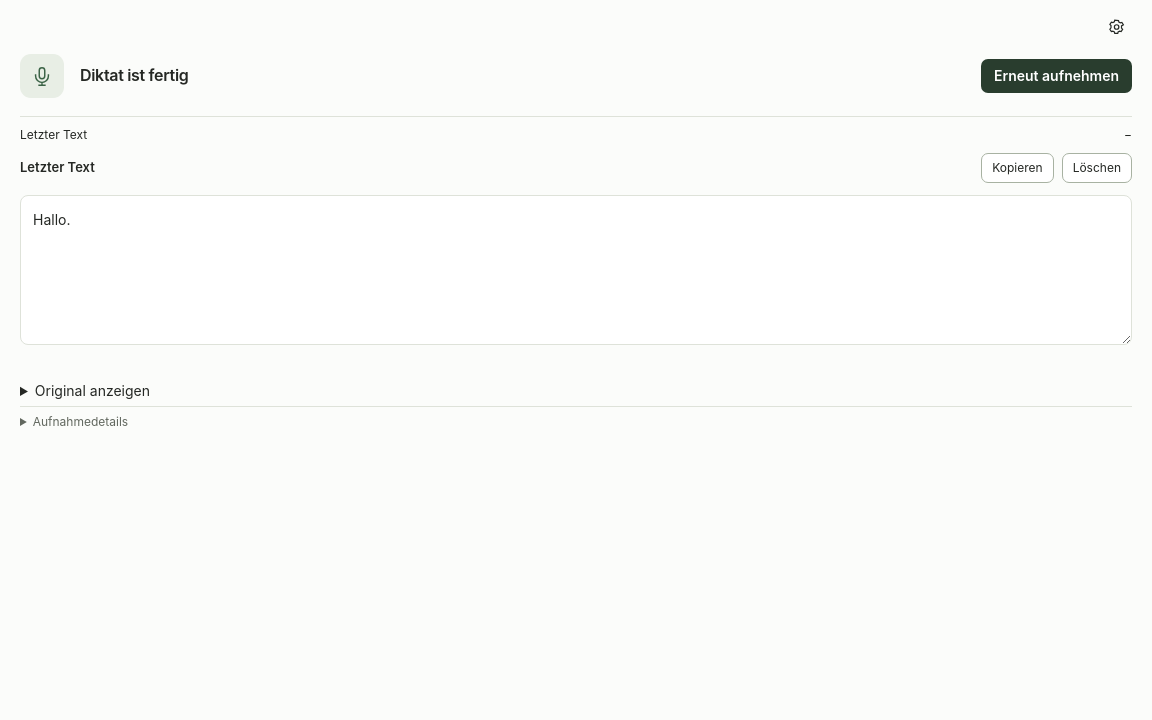
Test: offers the original separately after edits and hides stale session status
This screenshot has width=1152, height=720.
Click the heading "Original anzeigen".
click(92, 391)  # box [35,382,150,399]
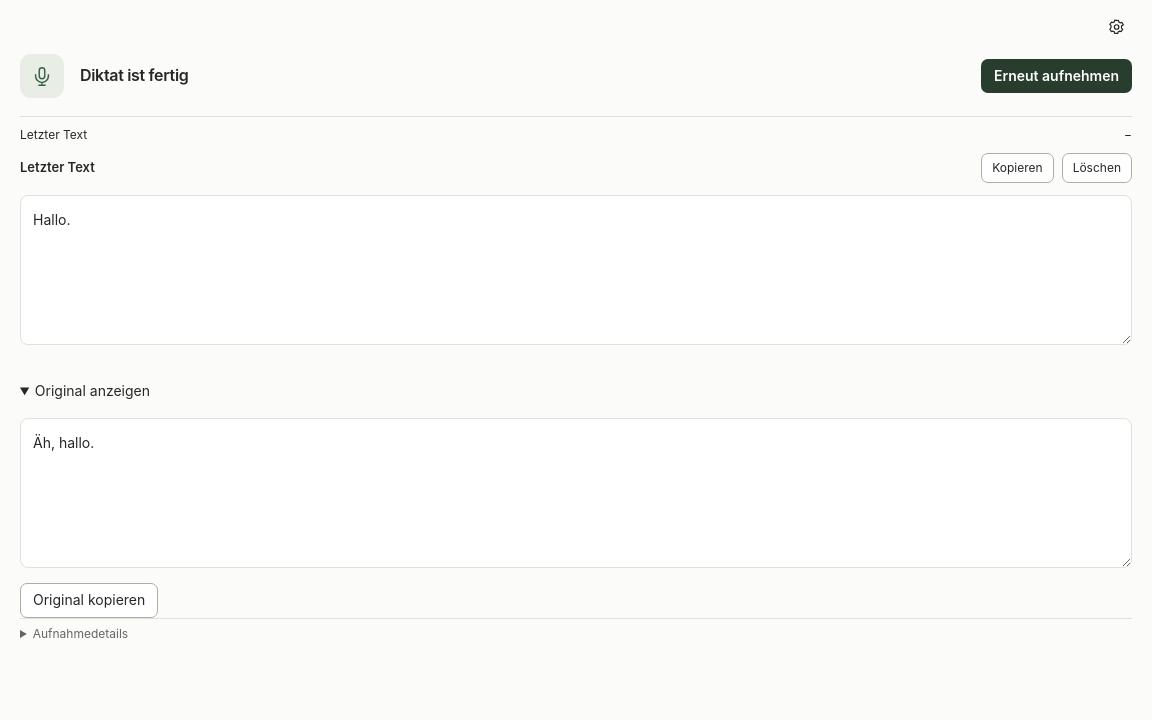
Expected: the text box named "Originaltranskript" holds "Äh, hallo.", [20,418,1132,568]
